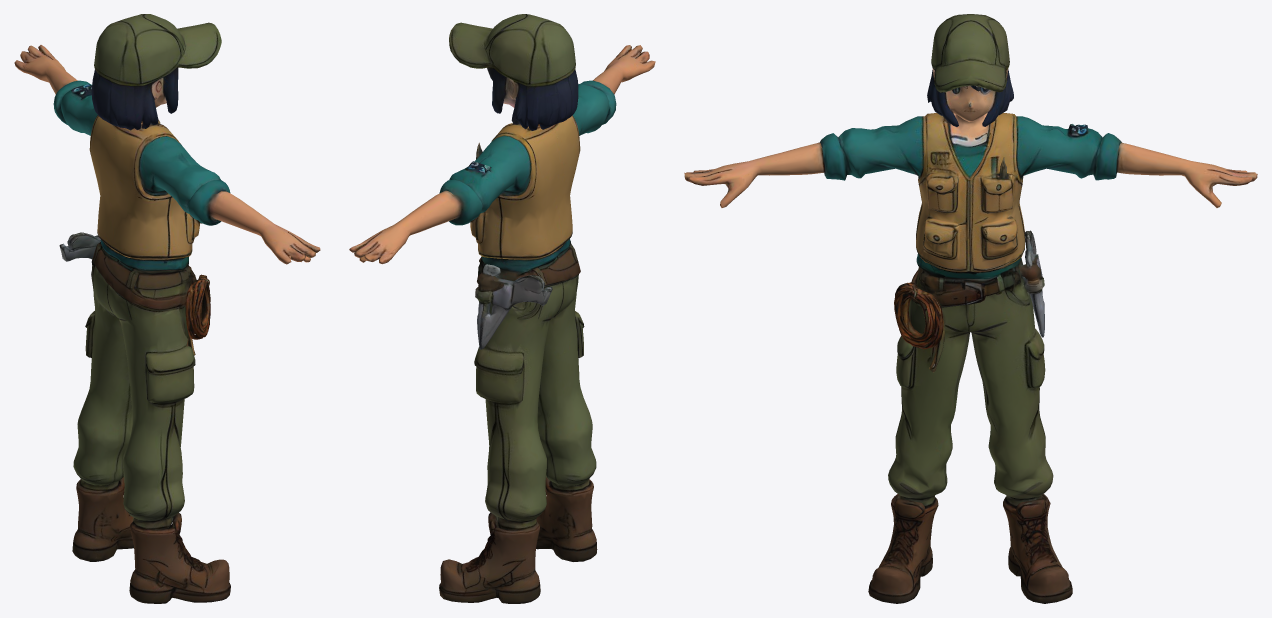
Rendered from n2_technician.b5fbc5d8.glb.
3 views of the same model, side by side, from view 1: azimuth 30°, elevation 25°; view 2: azimuth 150°, elevation 25°; view 3: azimuth 270°, elevation 25° (orthographic).
Parts seen in each view (by area): view 1: tripo_node_f431d9f7-3a1a-46a4-a079-8436ed233367; view 2: tripo_node_f431d9f7-3a1a-46a4-a079-8436ed233367; view 3: tripo_node_f431d9f7-3a1a-46a4-a079-8436ed233367.
Boxes of the visible parts, box(x1,y1,x2,y2) form: tripo_node_f431d9f7-3a1a-46a4-a079-8436ed233367: box(14, 14, 320, 603); tripo_node_f431d9f7-3a1a-46a4-a079-8436ed233367: box(349, 14, 655, 603); tripo_node_f431d9f7-3a1a-46a4-a079-8436ed233367: box(684, 14, 1257, 603).
Size of the model in its own units: 0.2359 by 0.9999 by 0.9237.
1 material, 1 textured.
